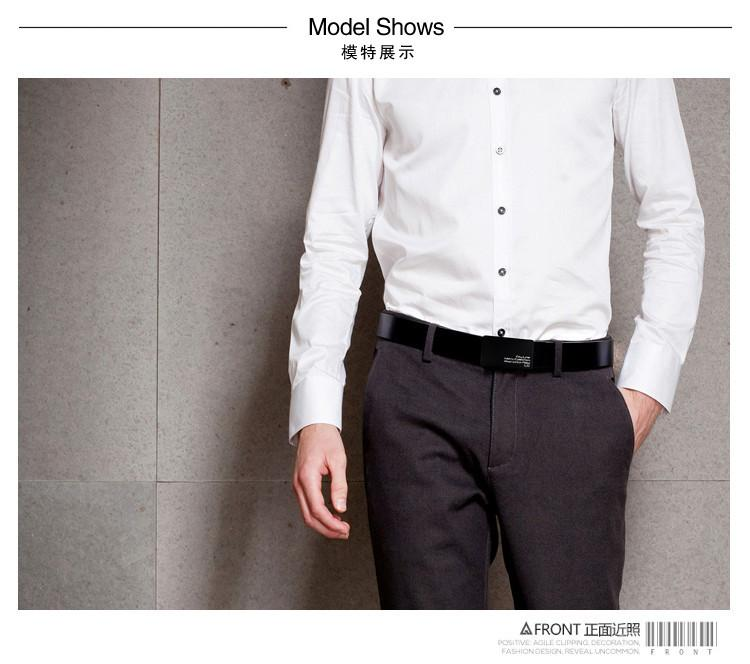F_belt: (368, 307, 615, 387)
F_dress pants: (366, 313, 634, 601)
F_shirt: (284, 81, 704, 436)
